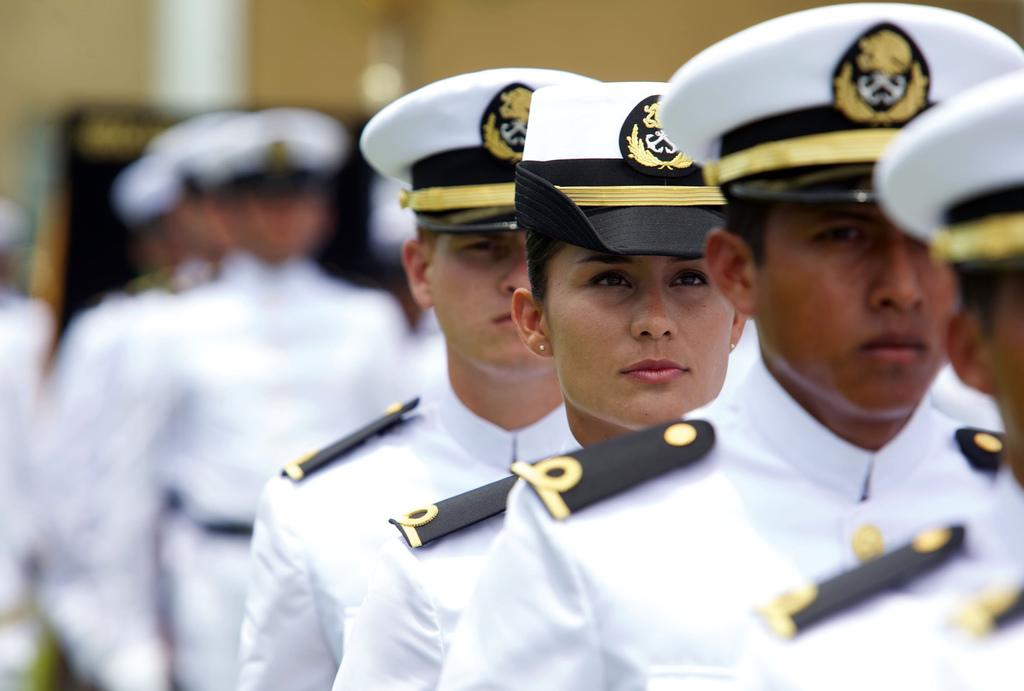Hat: (656, 0, 1022, 204), (514, 81, 728, 257), (363, 68, 592, 232), (878, 66, 1023, 272), (202, 108, 350, 192)
